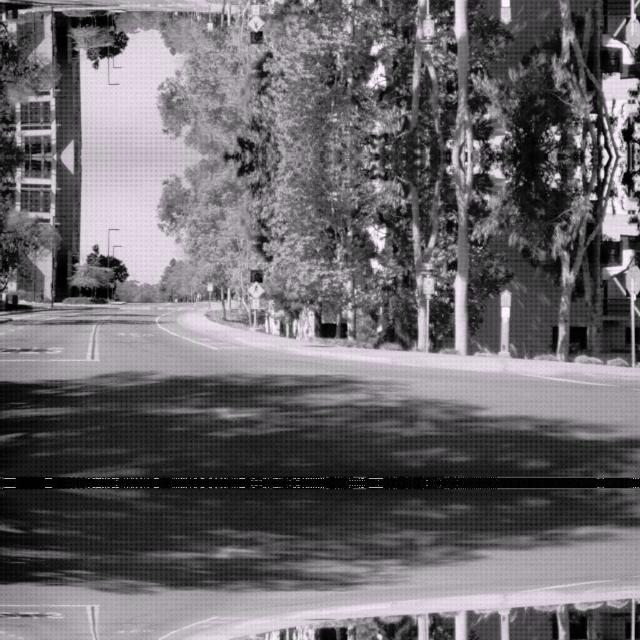pedestrianCrossing: (247, 279, 265, 297), (247, 15, 265, 33)
